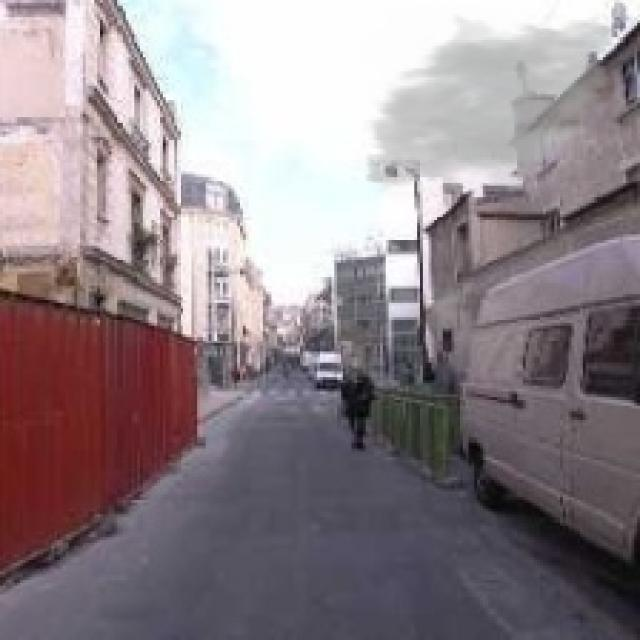smoke: (354, 6, 626, 206)
